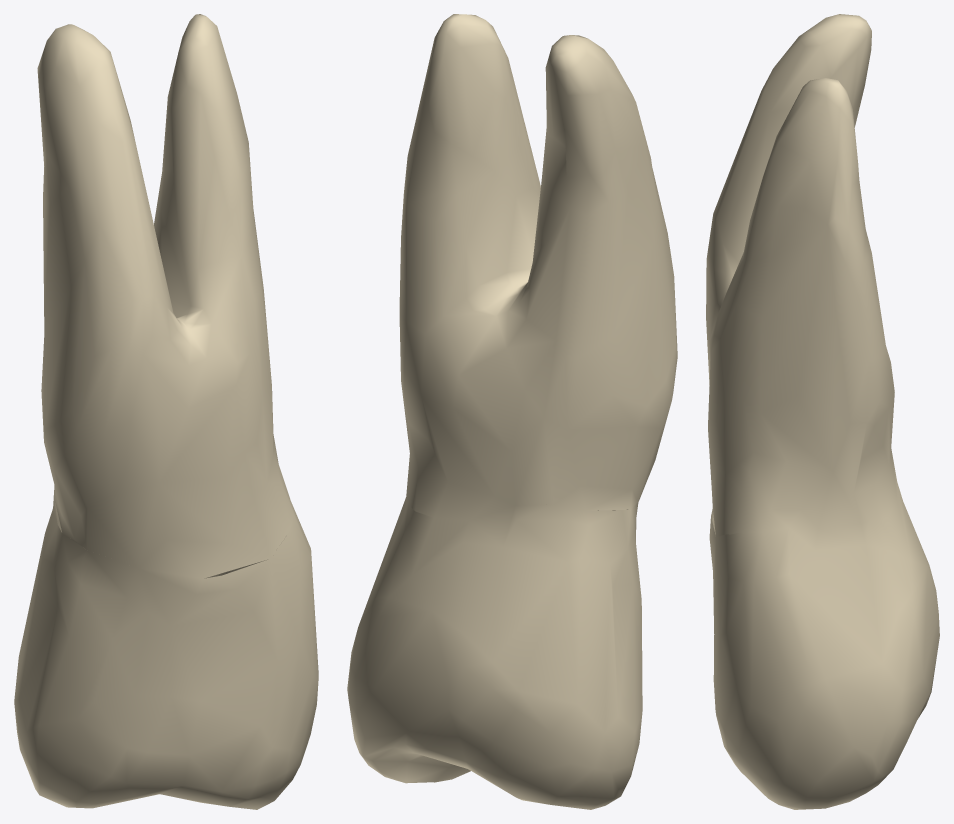
File: esqueleto-upper-second-premolar-l.glb
3 renders of one model, left to right at view 1: azimuth 30°, elevation 25°; view 2: azimuth 150°, elevation 25°; view 3: azimuth 270°, elevation 25°, orthographic. The views are drawn at different scales.
Parts seen in each view (by area): view 1: Upper second premolar.l; view 2: Upper second premolar.l; view 3: Upper second premolar.l.
Boxes of the visible parts, left/top/right/bottom form: Upper second premolar.l: left=14, top=14, right=318, bottom=809; Upper second premolar.l: left=347, top=14, right=677, bottom=809; Upper second premolar.l: left=706, top=14, right=939, bottom=809.
Bounding box in the file's own units: 0.00909 × 0.0253 × 0.00743.
